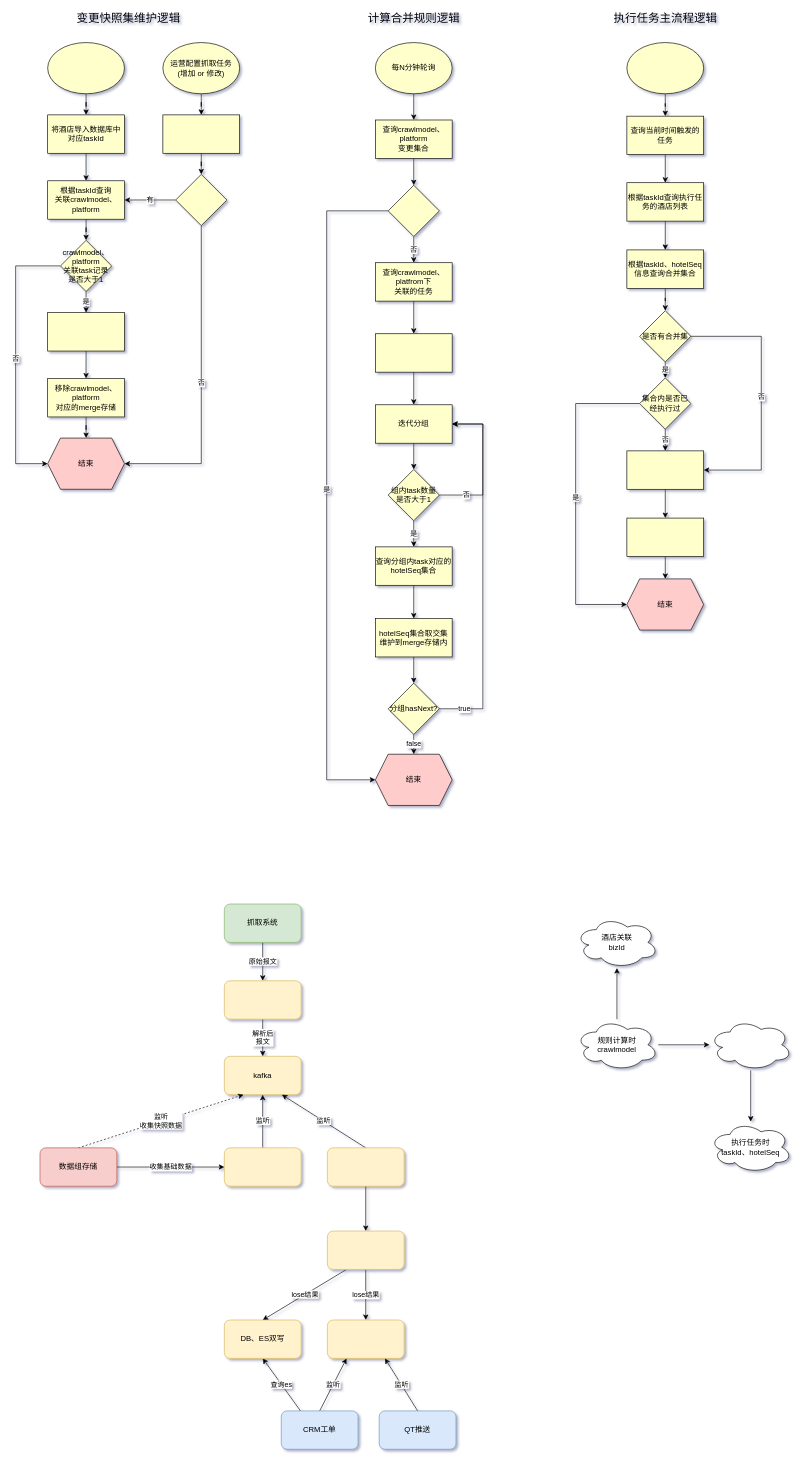
The diagram is 807 pixels wide and 1464 high, and some of its shapes have lost their labels. The box of each missing label's shape, as (x1, y1, x2, y2) in pixels:
crawlmodel: (709, 1019, 792, 1070)
kafka广播: (327, 1319, 404, 1358)
QMlose逻辑处理: (327, 1230, 404, 1269)
wrapper系统: (327, 1147, 404, 1186)
任务crawlmodel、platform是否有变动: (175, 174, 227, 226)
保存配置结果: (162, 114, 240, 153)
将对应 crawlmodel、platfrom 记录在变更集合中: (47, 312, 124, 351)
执行任务: (626, 450, 704, 489)
执行调度任务: (626, 42, 704, 94)
是否为空: (388, 185, 439, 236)
根据taskId、hotelSeq跟新状态聚合根为true: (626, 517, 704, 556)
维护基础数据 更新存储 cargo: (224, 1147, 301, 1186)
解析系统: (224, 980, 301, 1019)
运营导入酒店: (47, 42, 124, 94)
通过任务执行窗口期 将任务分组: (375, 333, 452, 372)
